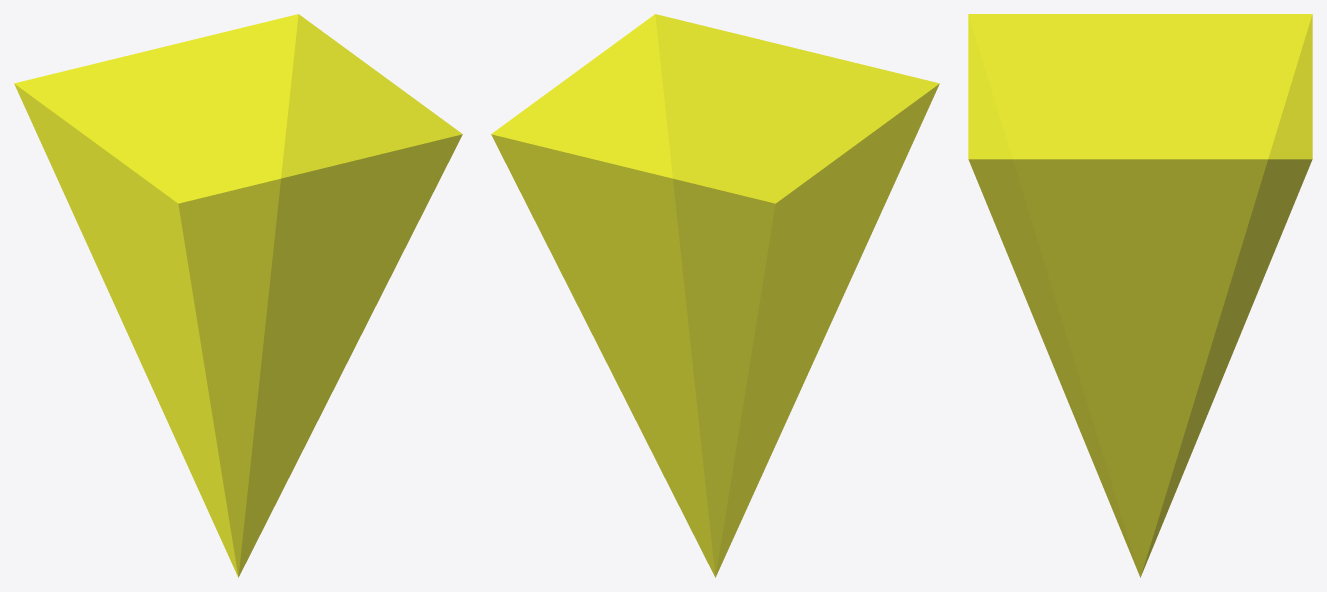
Rendered from slz.gltf.
3 views of the same model, side by side, from view 1: azimuth 30°, elevation 25°; view 2: azimuth 150°, elevation 25°; view 3: azimuth 270°, elevation 25° (orthographic). The views are drawn at different scales.
Visible parts, largest first — view 1: Pyramid001; view 2: Pyramid001; view 3: Pyramid001.
Boxes of the visible parts, x1,y1,x2,y2 form: Pyramid001: (14,14,462,577); Pyramid001: (491,14,939,577); Pyramid001: (968,14,1312,577).
Size of the model in its own units: 3.81 by 6 by 3.81.
